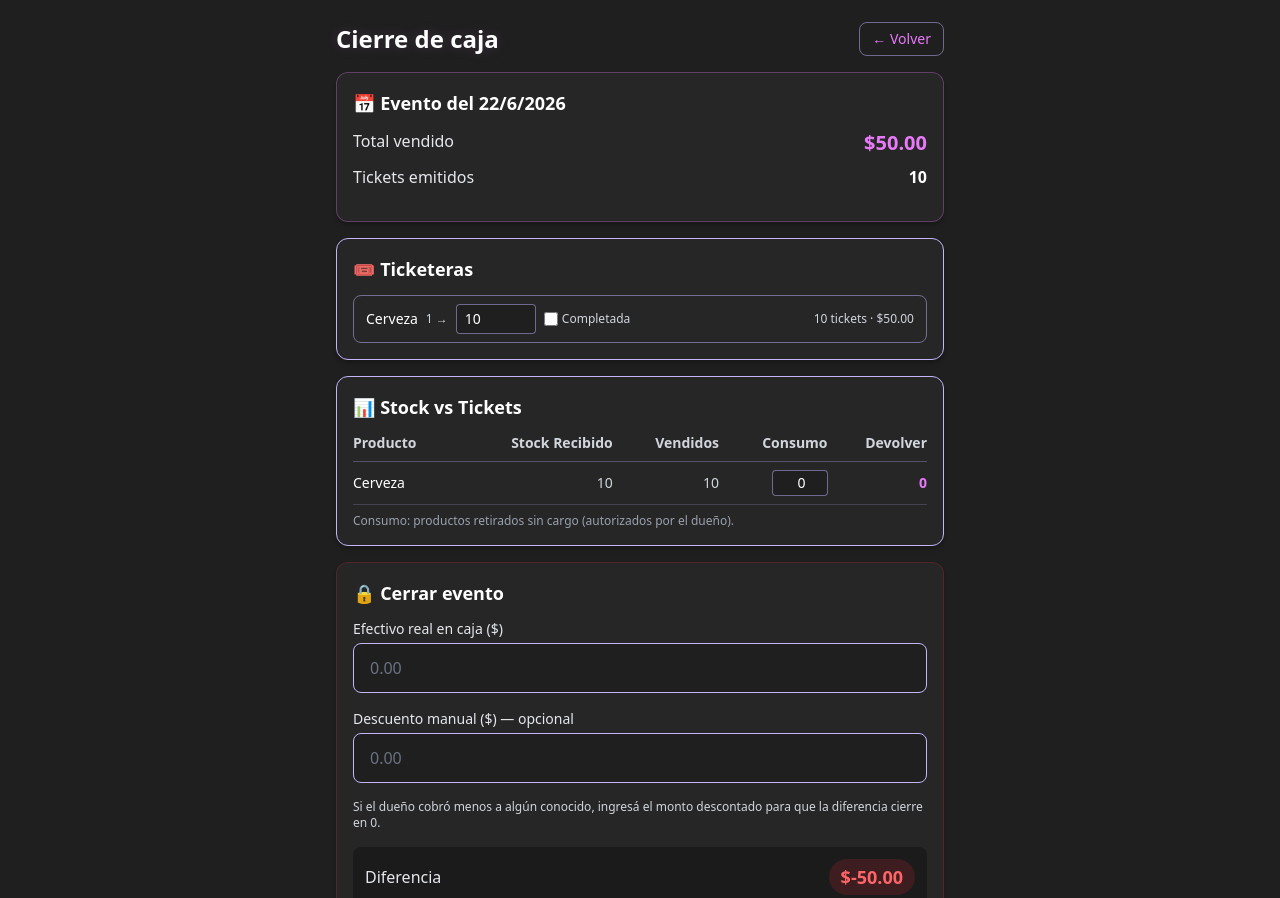
CierreCaja › opens modal when diferencia is negativa and no descuento
Type "10" into the number field with placeholder "0.00" below "Efectivo real en caja ($)" at [640, 668], box x1=353 y1=643 x2=927 y2=693
(page scrolled)
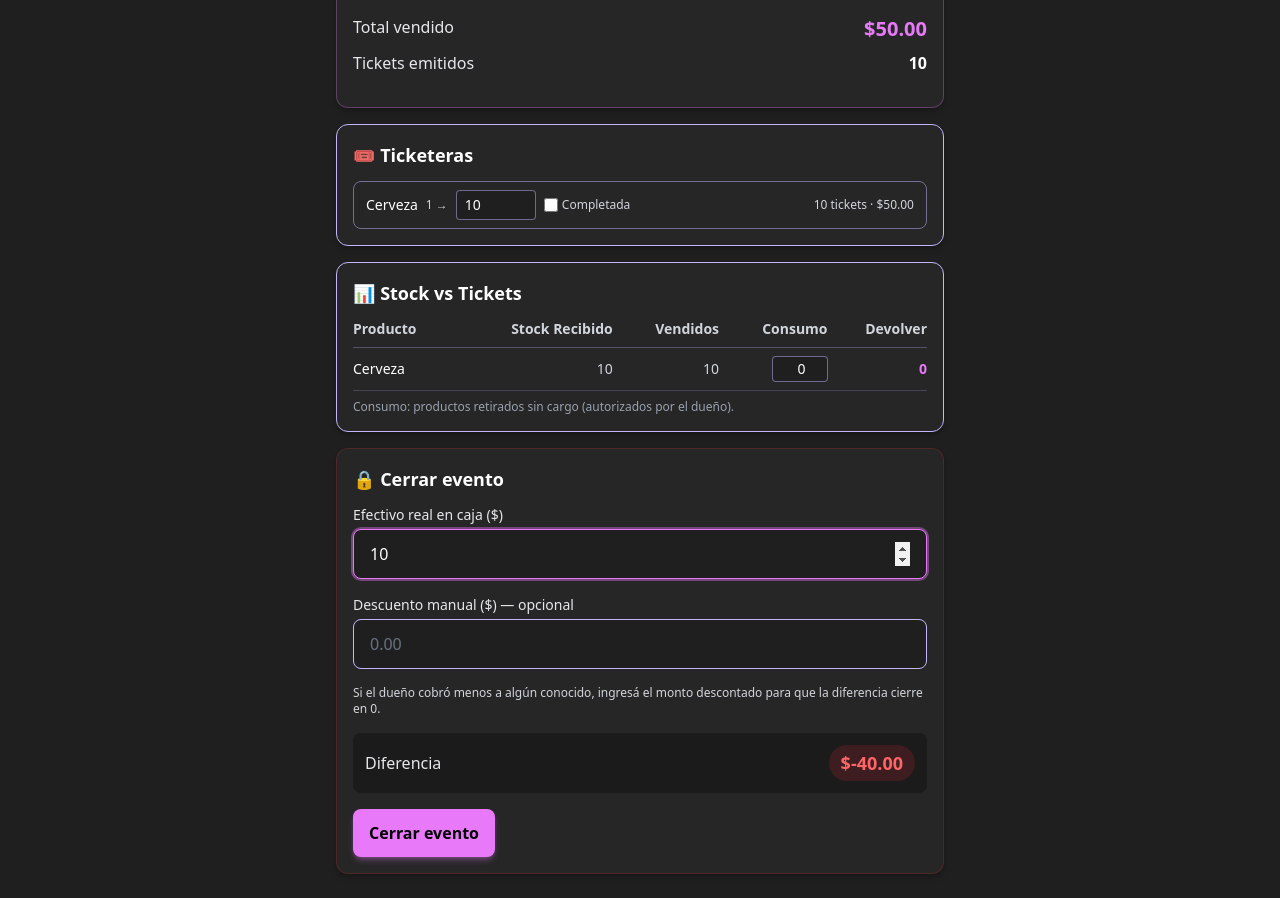
Click the button "Cerrar evento" at [424, 833], box x1=353 y1=809 x2=495 y2=857
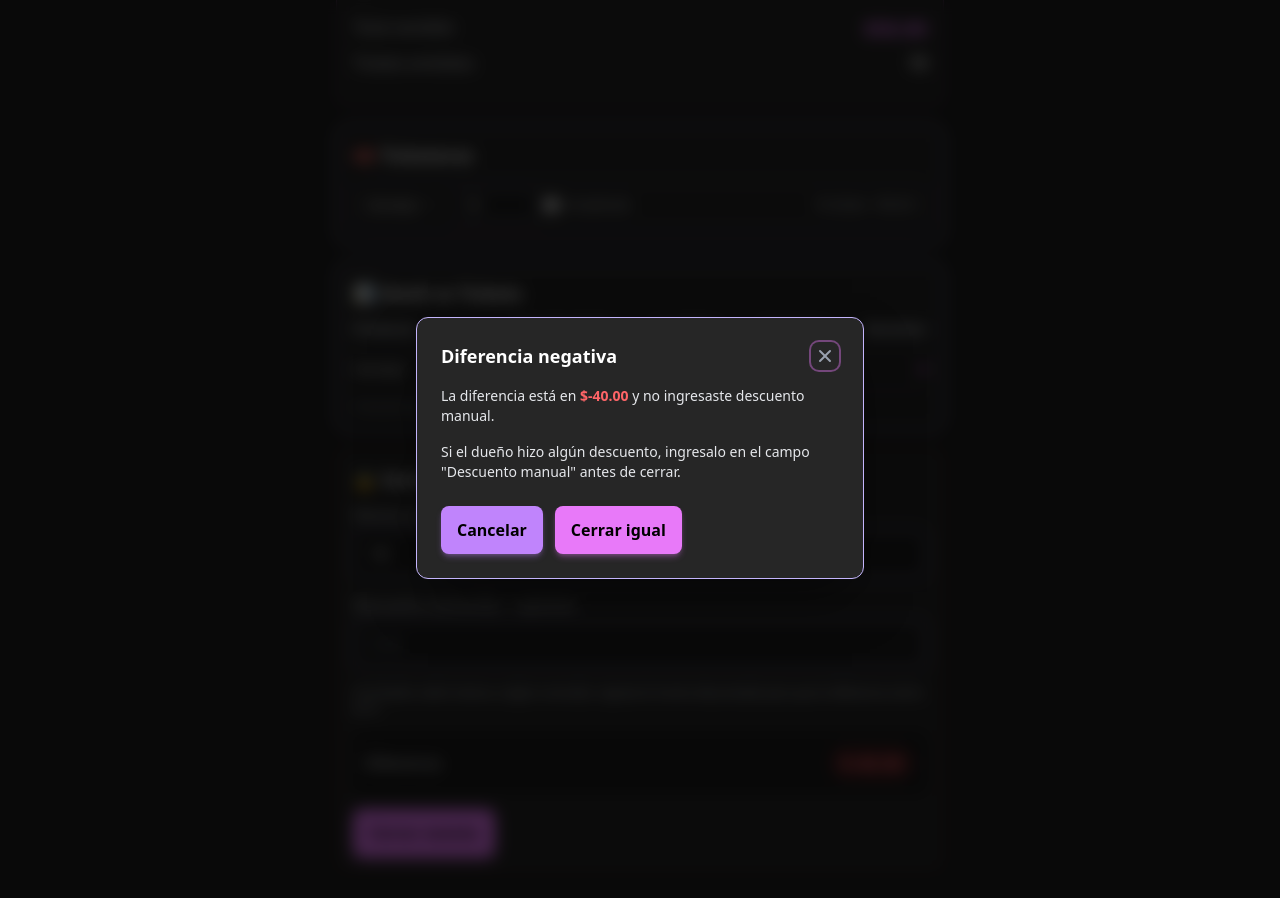
Expected: the heading "Diferencia negativa" is shown, x1=441 y1=342 x2=617 y2=370
